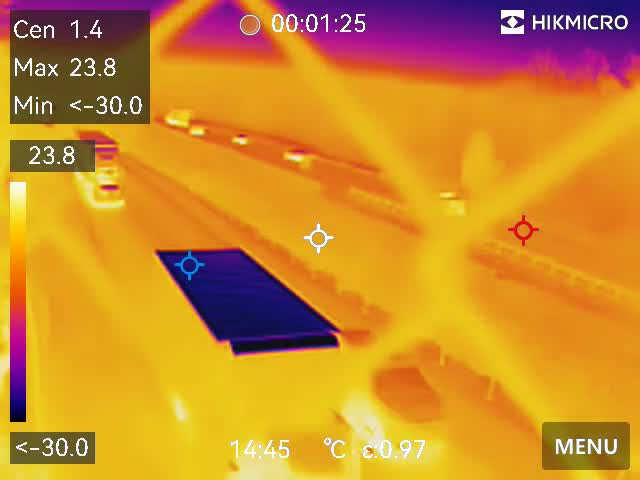heavyTruck: (150, 244, 358, 480), (70, 122, 132, 226), (160, 108, 192, 130)
vehicle: (280, 147, 307, 169), (228, 128, 253, 150), (190, 124, 210, 138)
